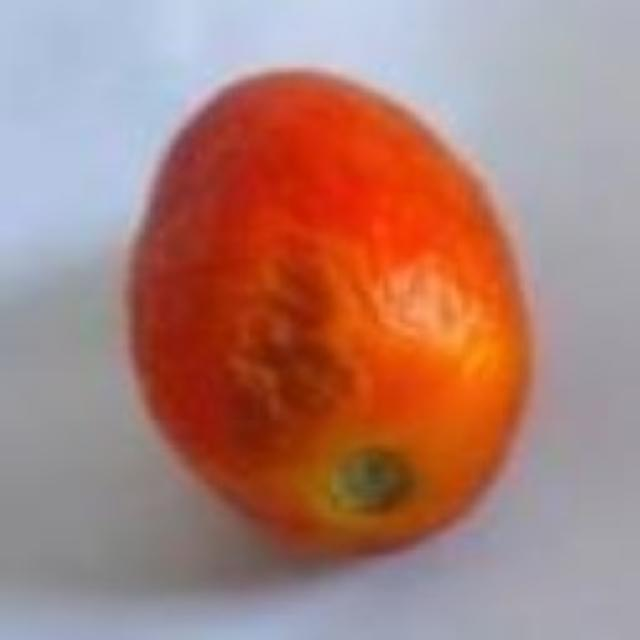defect: (122, 64, 543, 561)
